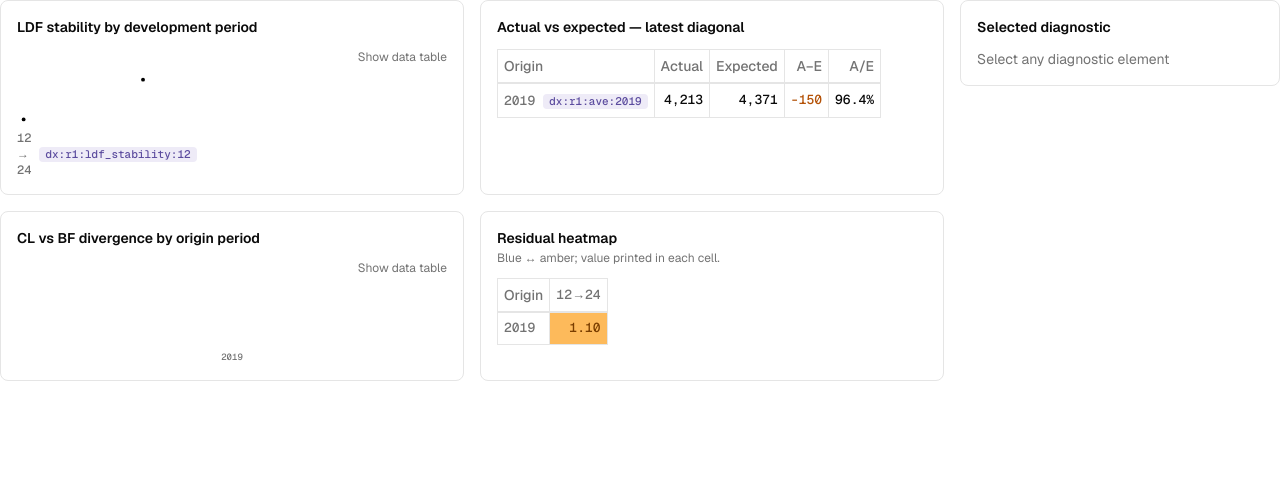
Test: DiagnosticContextRail + selection (Story 4.6) › replaces rail content when a second element is selected (AC1)
This screenshot has width=1280, height=497.
Click the button "dx:r1:ave:2019": point(595, 102) [543,94,648,109]
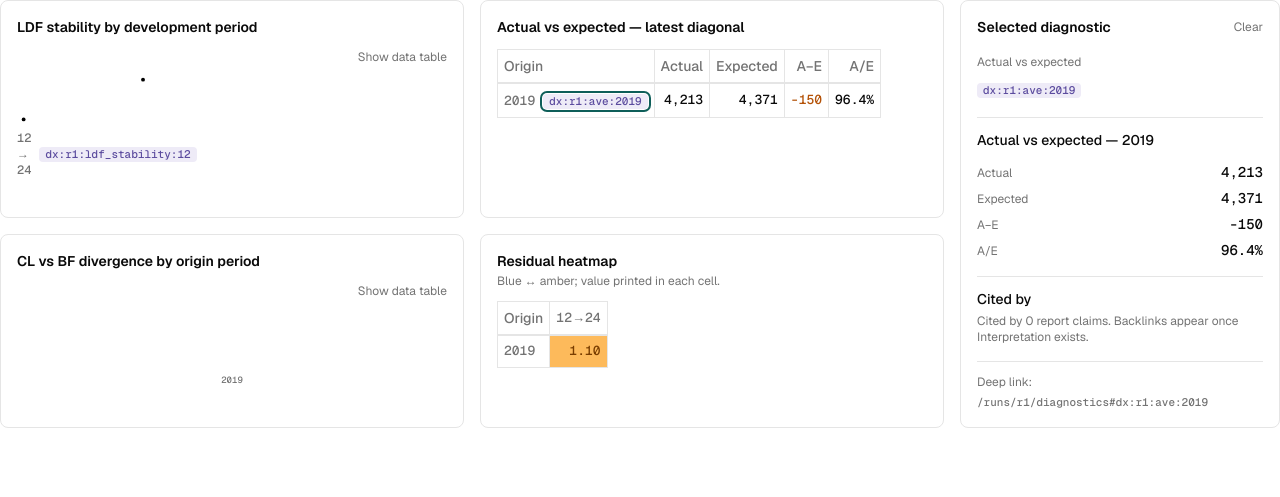
Result: the heading "Actual vs expected — 2019" is shown at [977,131,1154,149]
Click the button "dx:r1:ldf_stability:12": point(118, 154) [39,147,197,162]
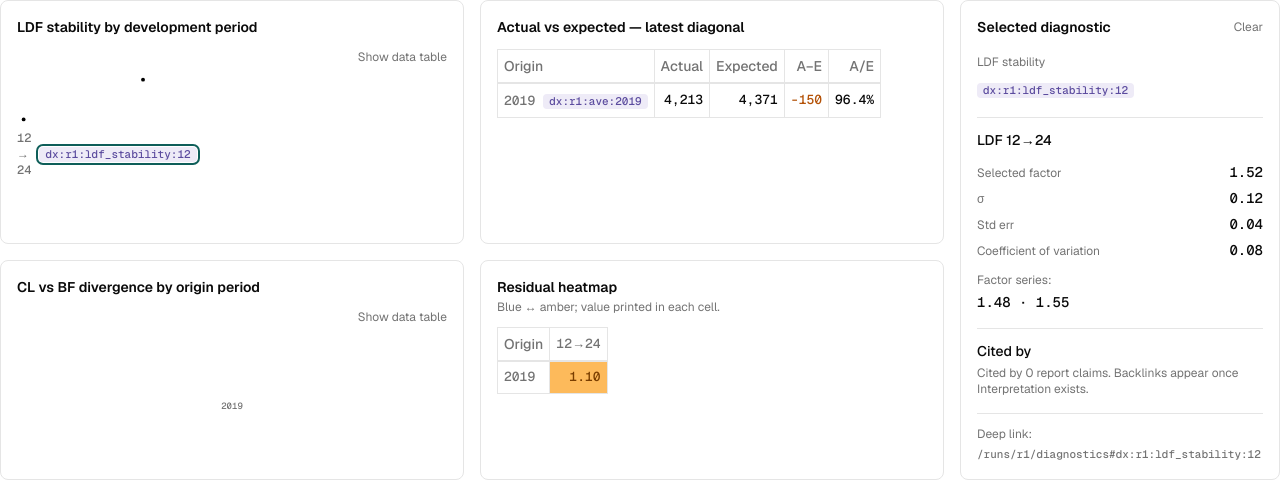
Result: the heading "LDF 12→24" is shown at [977,131,1052,149]
Result: the heading "Actual vs expected — 2019" is gone
